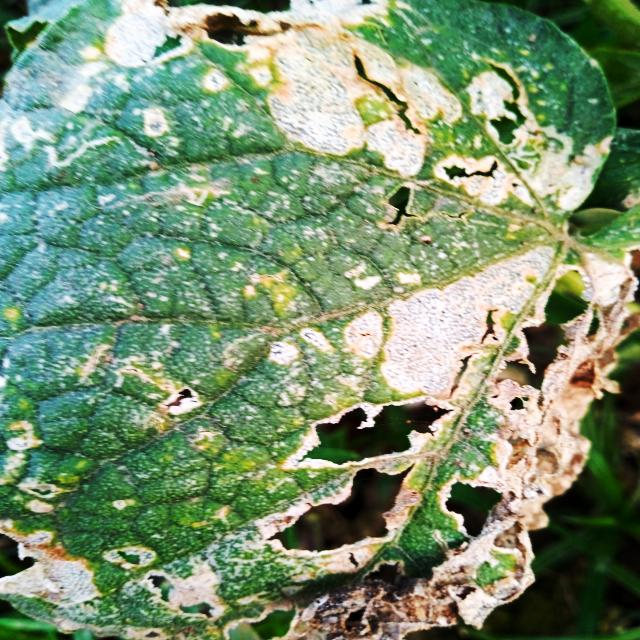Anthracnose: (262, 391, 462, 570), (476, 257, 598, 422), (114, 536, 217, 624), (439, 471, 512, 543), (481, 54, 532, 152), (384, 168, 418, 228)
